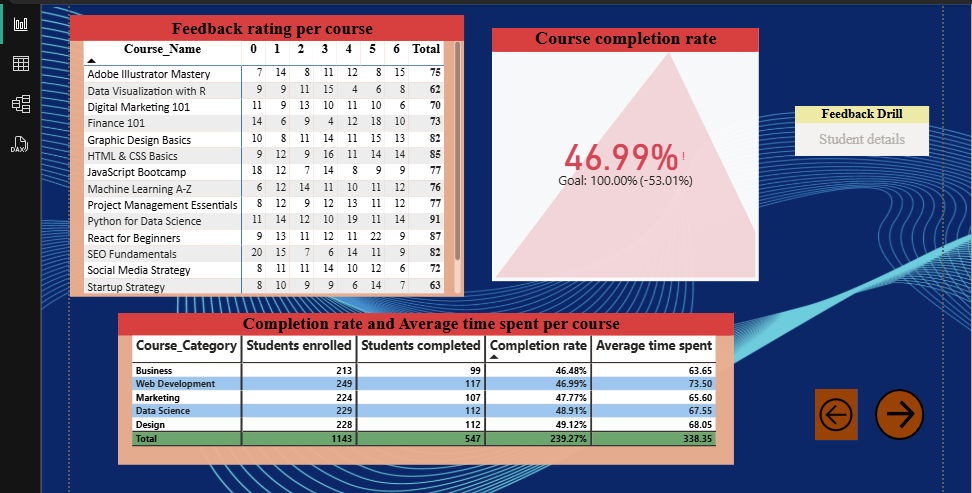

This screenshot's page, from the dashboard's own definition file:
{"tool":"powerbi","page":{"name":"Summary and feedback","canvas":[1280,720],"ordinal":1},"visuals":[{"type":"pivotTable","title":"Feedback rating per course","fields":{"Columns":["Table1.Feedback_Rating"],"Rows":["Table1.Course_Name"],"Values":["CountNonNull(Table1.Feedback_Rating)"]},"box":[0,16.2,578.9,414.4],"z":0},{"type":"kpi","title":"Course completion rate","fields":{"Indicator":["Completion rate and average time spent  per category.T.Current Completion rate"],"Goal":["Completion rate and average time spent  per category.Target"],"TrendLine":["Completion rate and average time spent  per category.Students Completed"]},"box":[620.1,35.3,392.3,371.8],"z":1000},{"type":"tableEx","title":"Completion rate and Average time spent per course","fields":{"Values":["Completion rate and average time spent  per category.Course_Category","Sum(Completion rate and average time spent  per category.Students enrolled)","Sum(Completion rate and average time spent  per category.Students Completed)","Sum(Completion rate and average time spent  per category.Total Completion rate)","Sum(DAX Completion rate and Avg time spent.Average)"]},"box":[70.5,454,905.1,223.3],"z":2000},{"type":"actionButton","box":[1182.7,565.3,72.3,75.2],"z":3000},{"type":"actionButton","box":[1094.7,565.7,61.7,74.9],"z":4000},{"type":"actionButton","title":"Feedback Drill ","box":[1065.3,149.9,196.9,73.5],"z":5000}]}

Visuals, with their boxes on the page's 1280x720 design canvas (x1, y1, x2, y2). These are canvas units, not pixel positions in the 972x493 screenshot, which may show the page scaled, cropped or inside an application window:
"Feedback rating per course" pivotTable: 0 16 579 431
"Course completion rate" kpi: 620 35 1012 407
"Completion rate and Average time spent per course" tableEx: 70 454 976 677
actionButton: 1183 565 1255 640
actionButton: 1095 566 1156 641
"Feedback Drill " actionButton: 1065 150 1262 223
